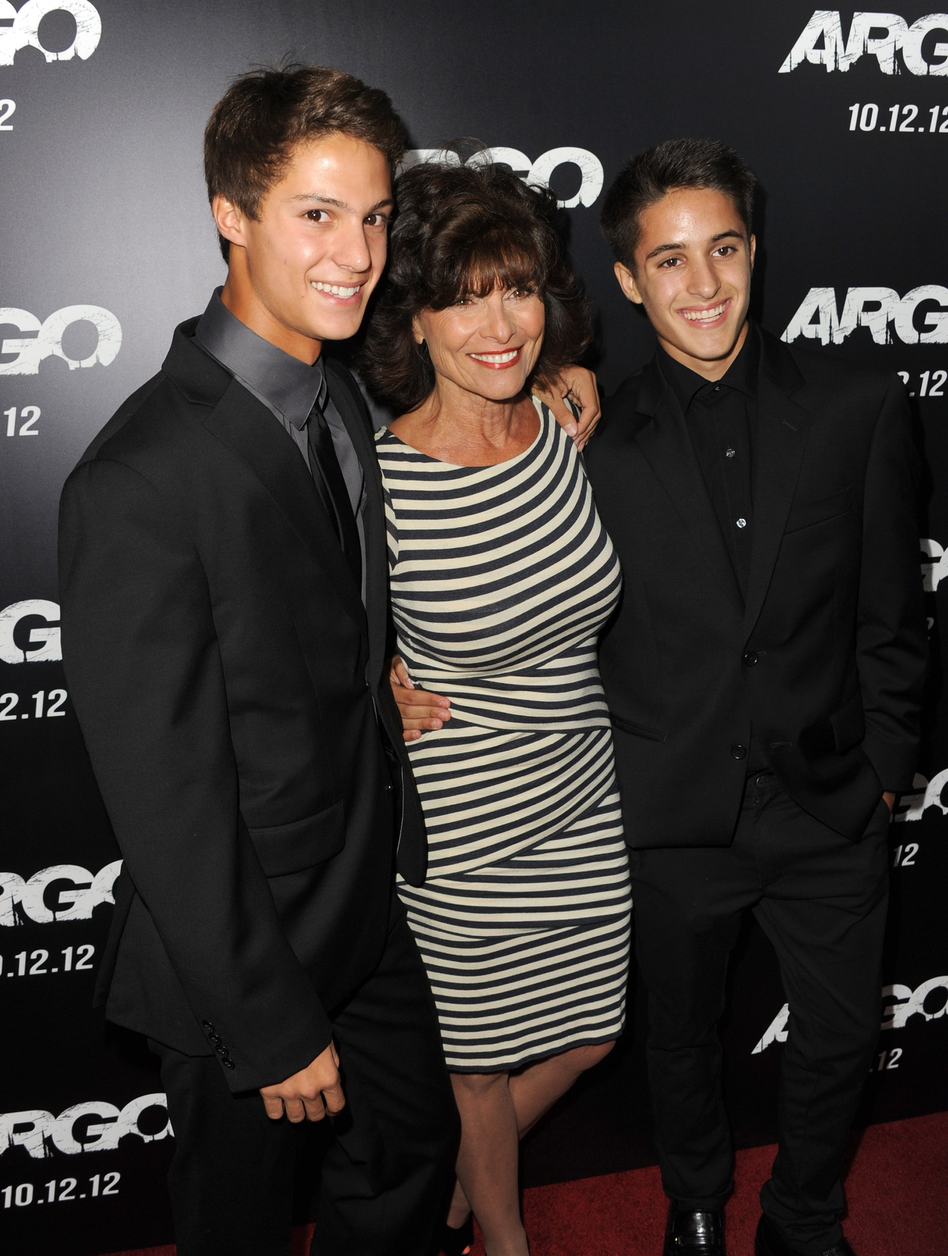23: (234, 110, 411, 370)
24: (616, 162, 770, 385)
55: (403, 215, 563, 424)
Coat: (39, 310, 408, 1086), (576, 341, 919, 850)
Dress: (338, 380, 628, 1051)
Female: (403, 215, 563, 424)
Male: (234, 110, 411, 370), (616, 162, 770, 385)
Pants: (628, 866, 872, 1233)
Tie: (299, 388, 362, 534)
